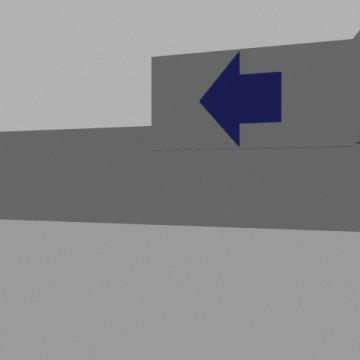blue_left: (200, 52, 281, 146)
